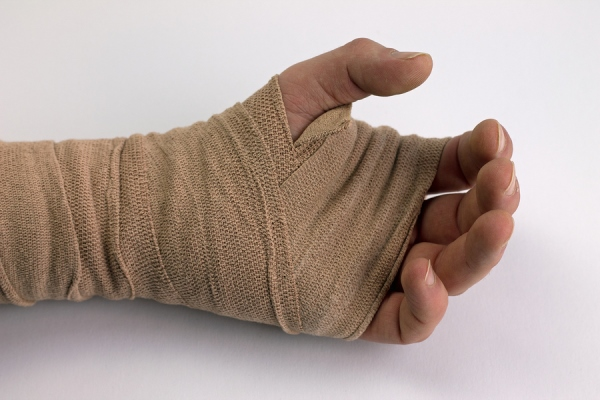injured: (26, 48, 509, 355)
